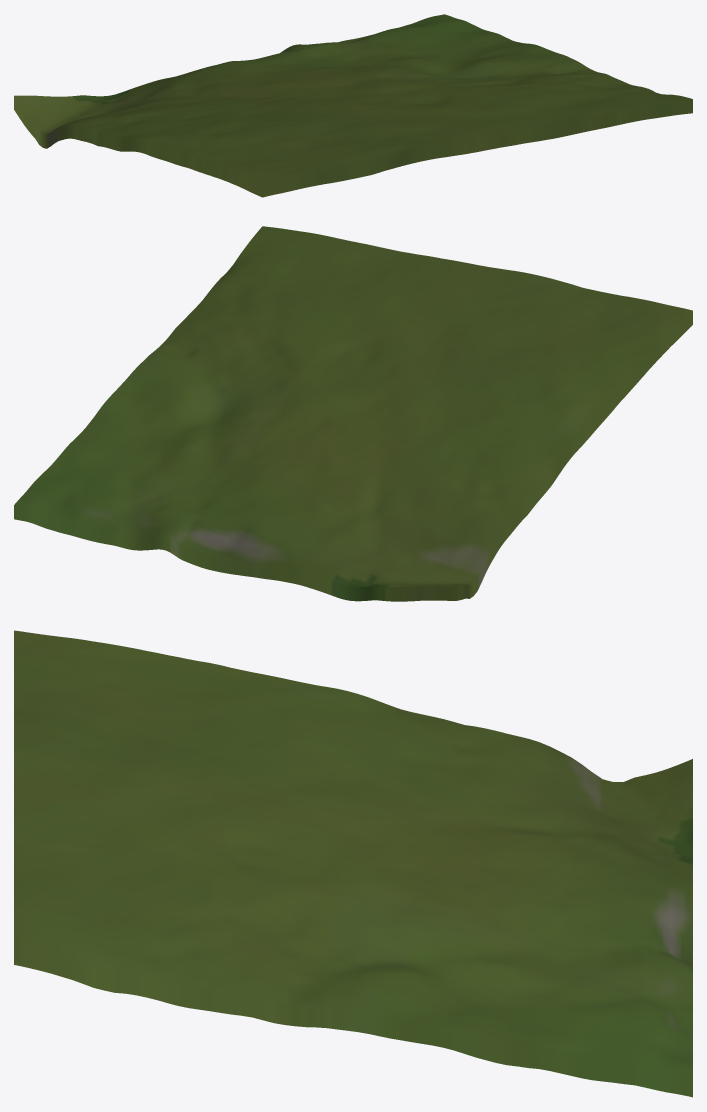
The model's file is terrain_7_-11.glb.
3 views of the same model, one above another, from view 1: azimuth 30°, elevation 25°; view 2: azimuth 150°, elevation 25°; view 3: azimuth 270°, elevation 25° (orthographic). The views are drawn at different scales.
Parts seen in each view (by area): view 1: terrain_7_-11; view 2: terrain_7_-11; view 3: terrain_7_-11.
Boxes of the visible parts, x1,y1,x2,y2 form: terrain_7_-11: [14, 14, 692, 197]; terrain_7_-11: [14, 226, 692, 601]; terrain_7_-11: [14, 630, 692, 1097].
Size of the model in its own units: 256 by 76.61 by 256.
